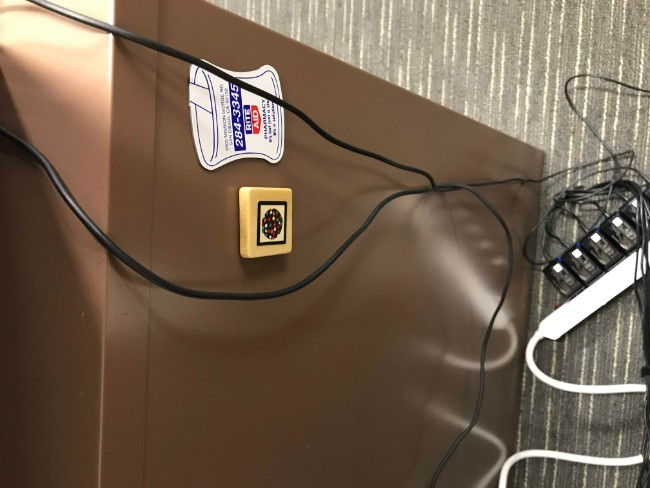cookie: (253, 196, 290, 248)
